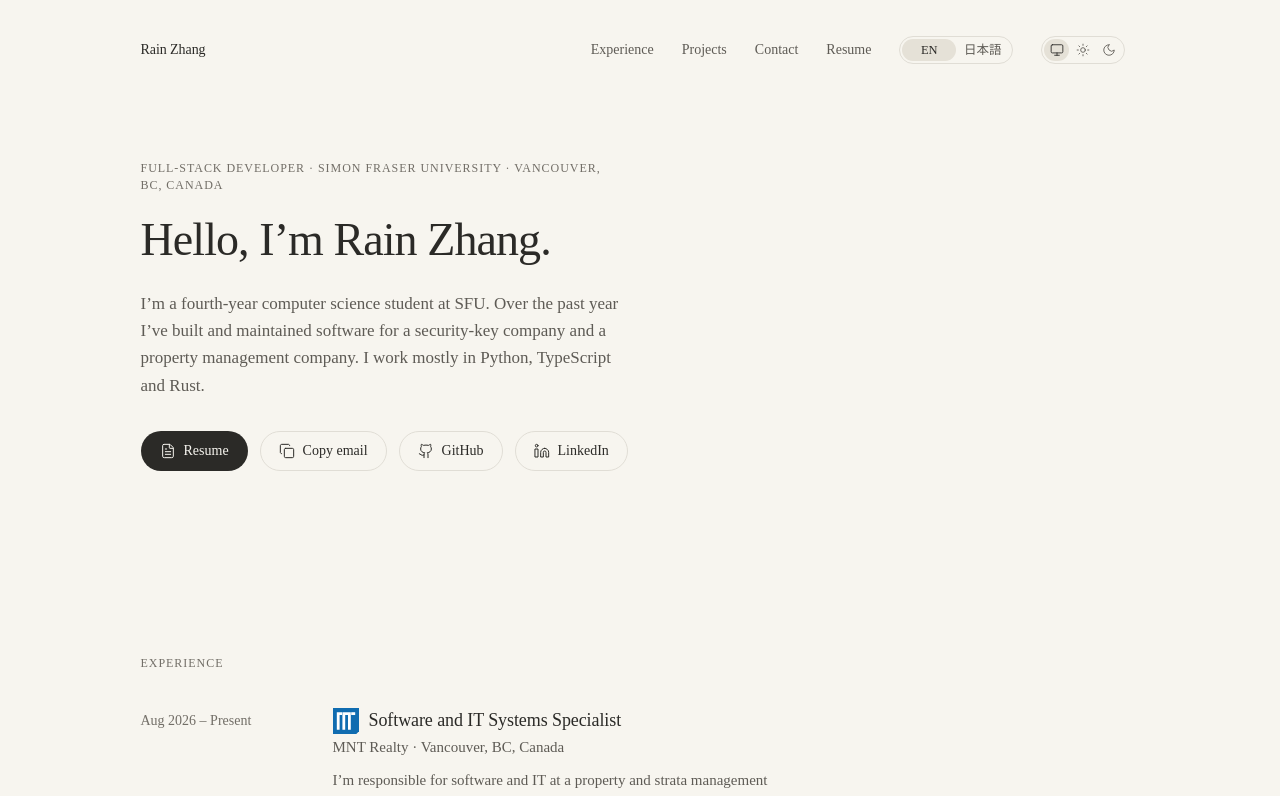
Test case: PortfolioPage › copies the email address and confirms it in a live region
The image size is (1280, 796).
Click the button "Copy email".
click(323, 451)  # box [260,431,386,471]
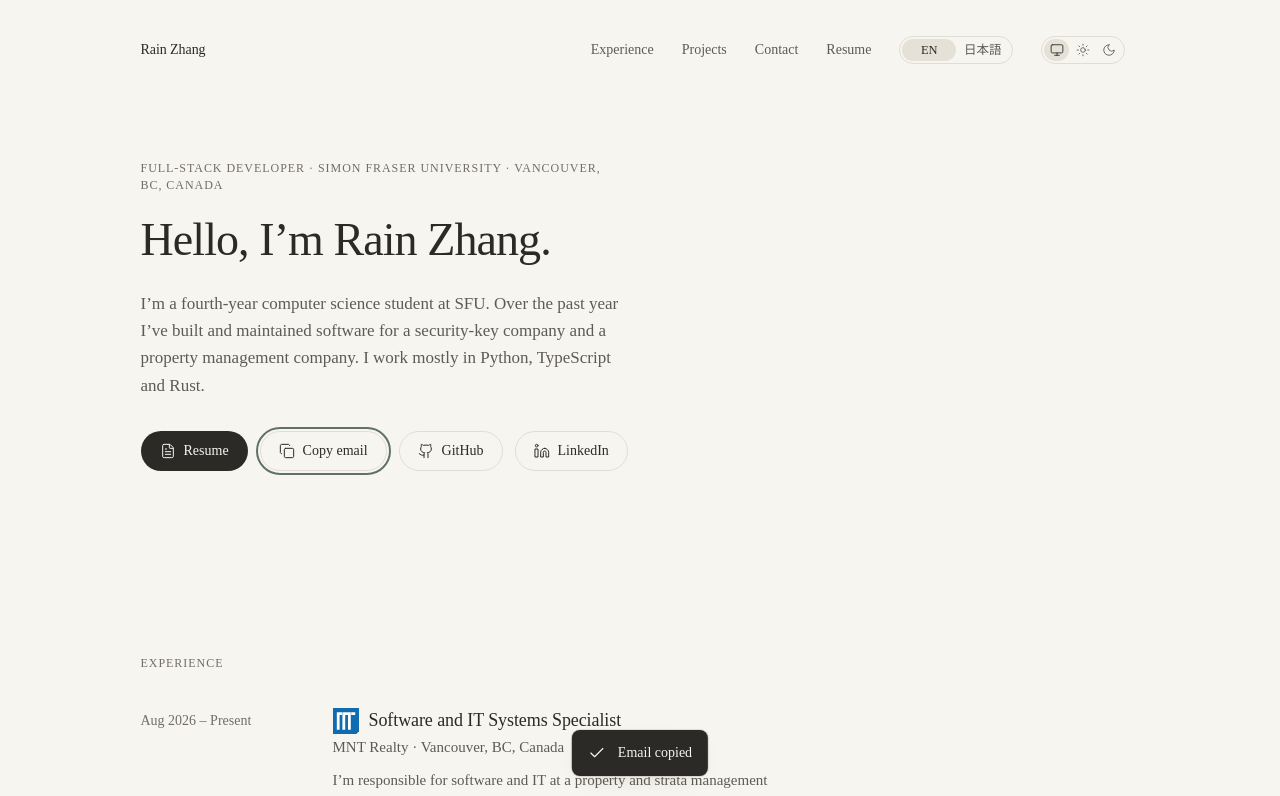
Expected: the message reads "Email copied", [618,745,692,760]
